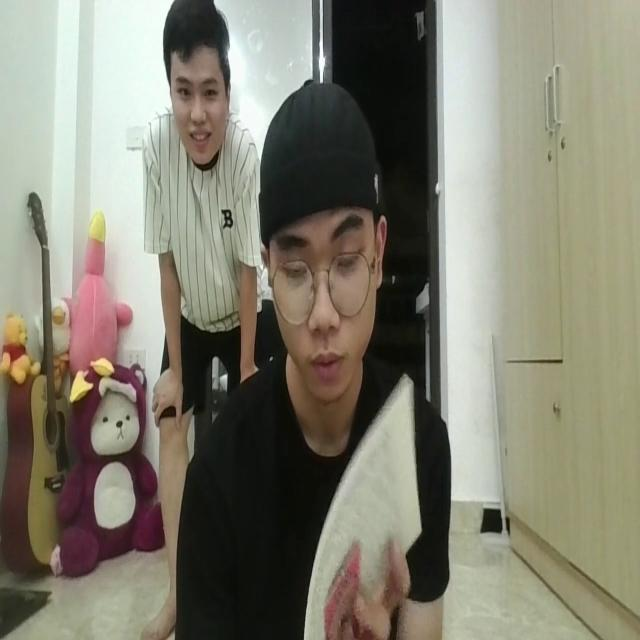book: (304, 369, 420, 640)
extra_person: (142, 2, 260, 481)
student: (188, 83, 449, 640)
